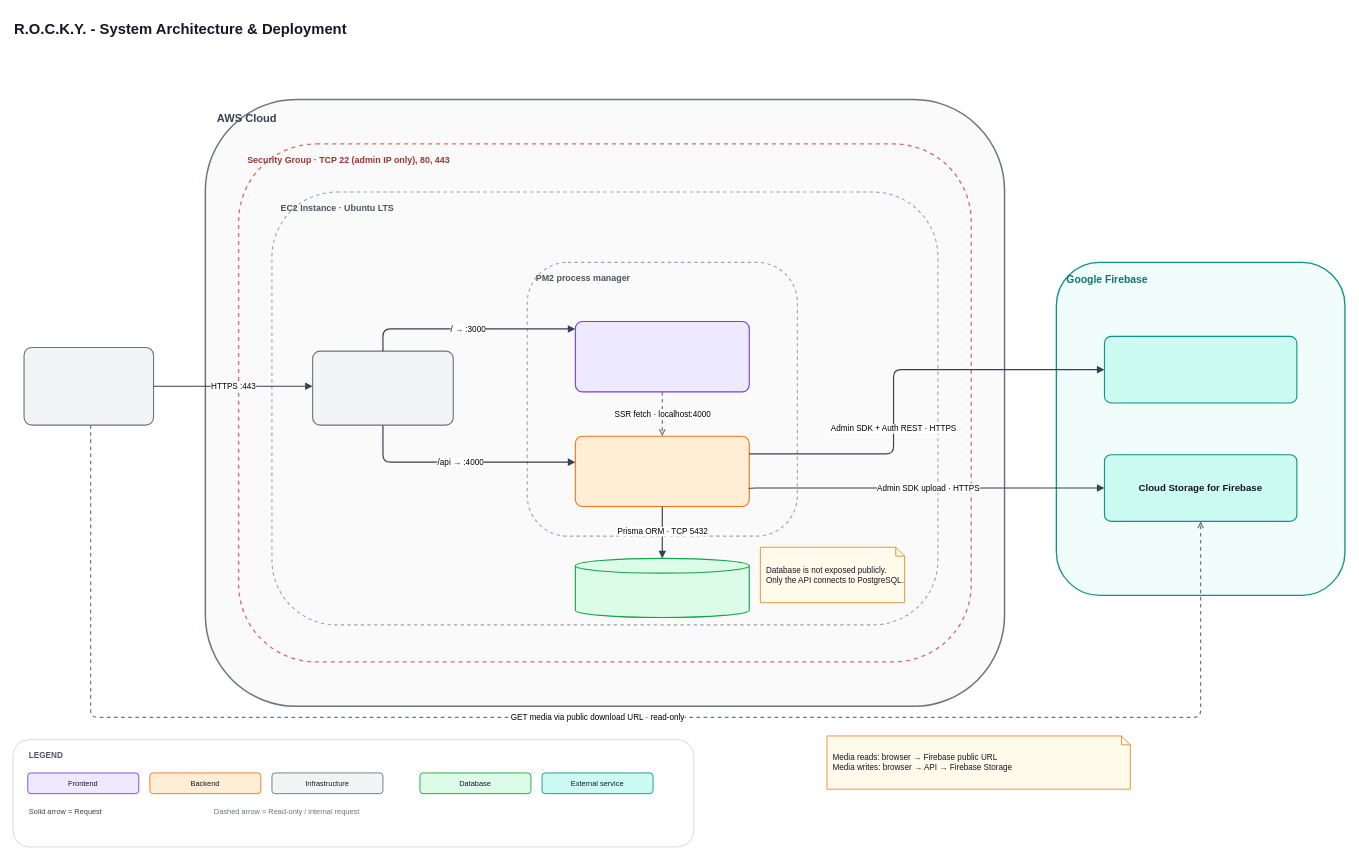
The diagram is 1359 pixels wide and 860 high, and some of its shapes have lost their labels. Each missing label, with the centre of its shape:
Firebase Authentication: the point at 1200,369
NestJS rocky-api · :4000: the point at 661,471
Next.js rocky-web · :3000: the point at 661,356
Nginx Reverse proxy · TLS :443: the point at 382,387
PostgreSQL localhost only: the point at 661,587
User Web browser: the point at 88,386
